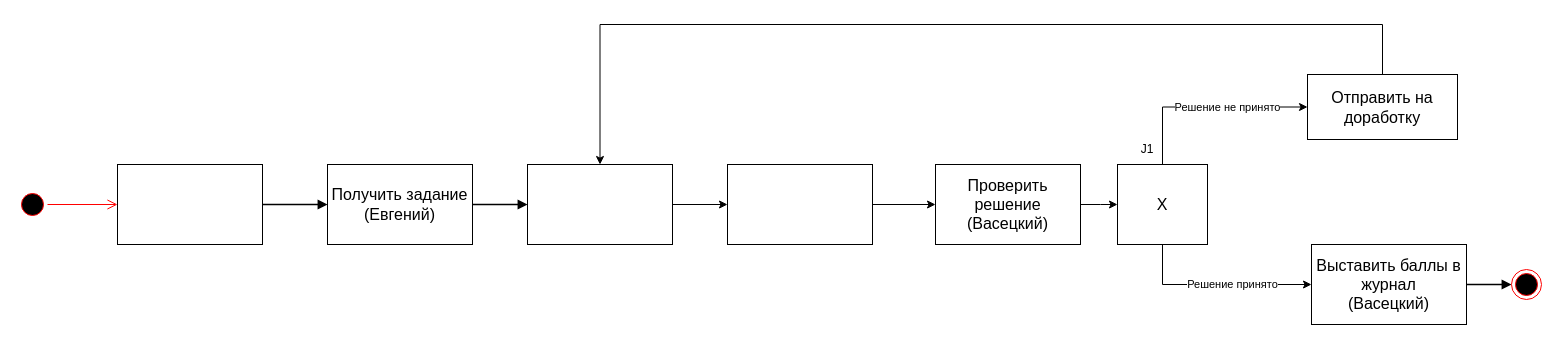
This 1559x342 diagram has some shape labels left out. Here are the shapes that lost their labels. From the top down, the box of each, then its label:
(116, 164, 262, 244): Выдать задание (Васецкий)
(526, 164, 672, 244): Выполнить задание
(726, 164, 872, 244): Сдать задание
